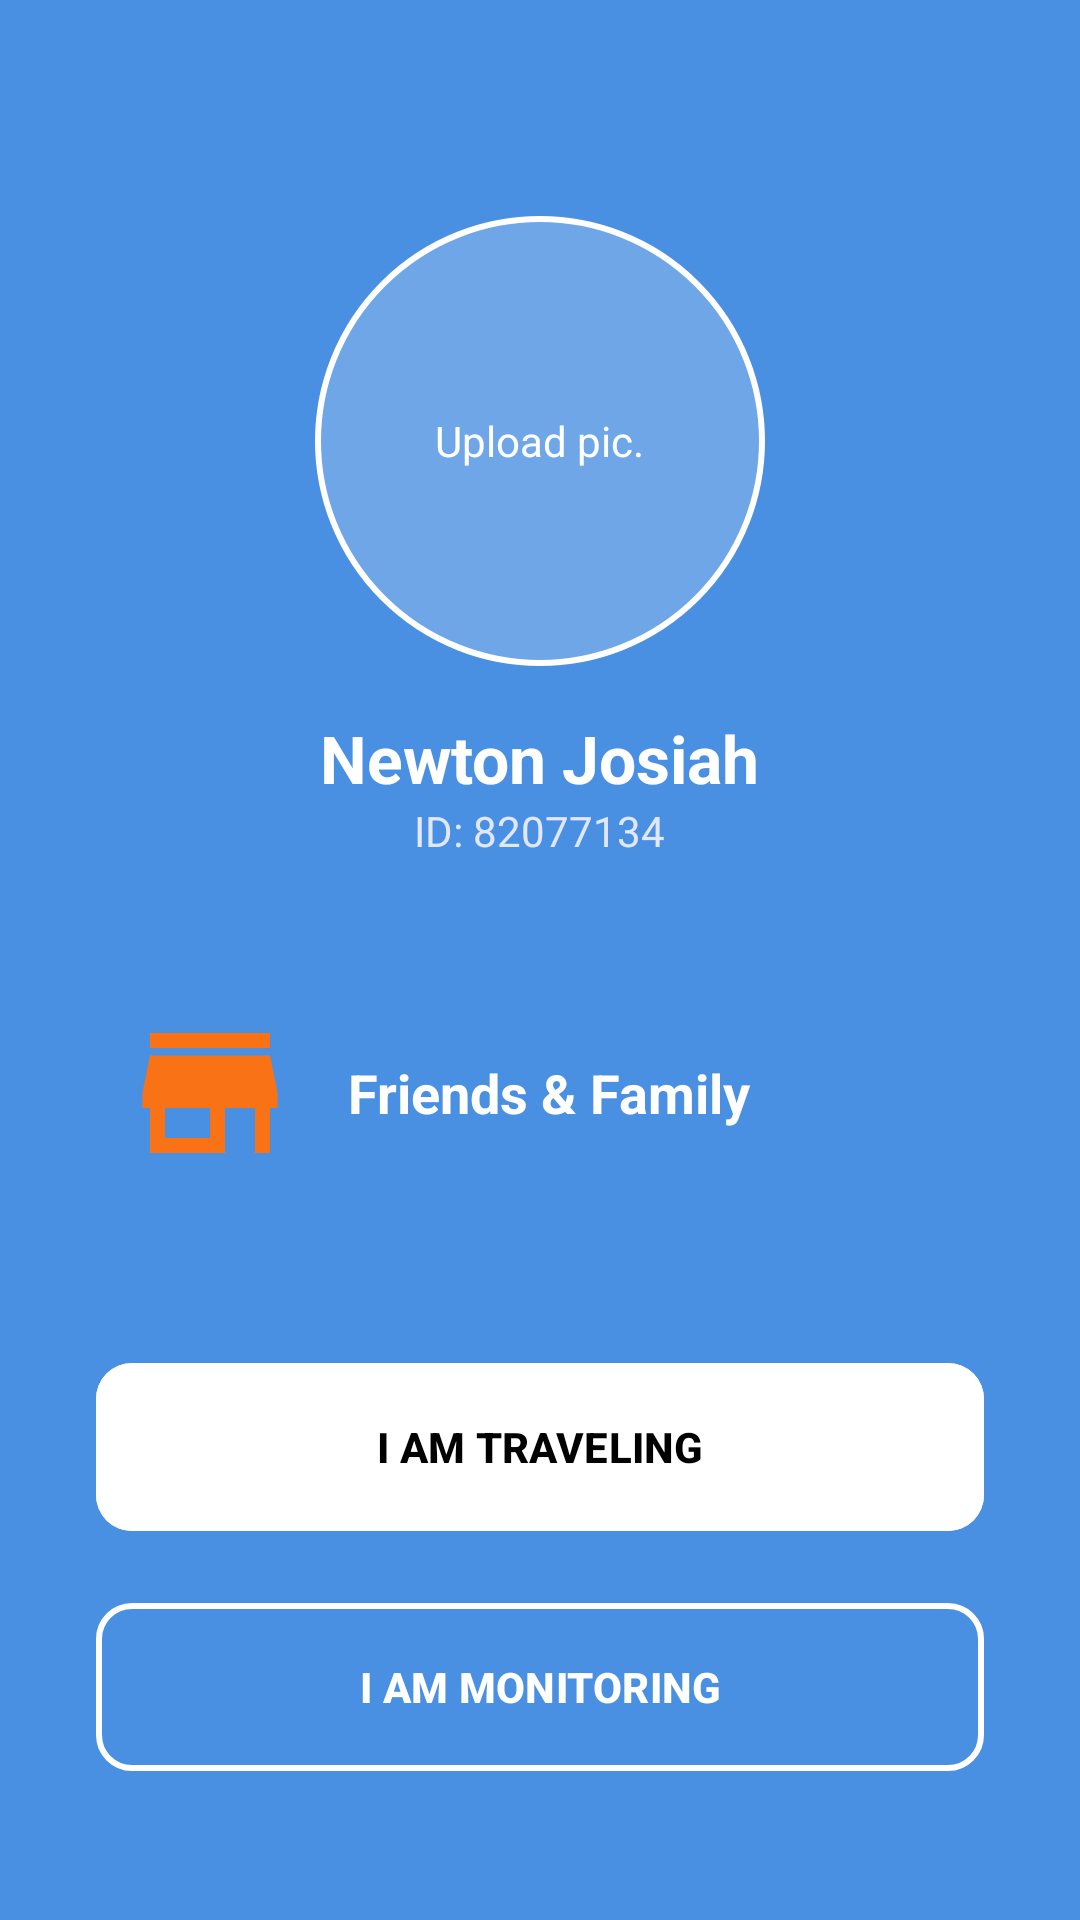

Locate icon controls on the screen. Image size 1080x1920, boxes as (x1, y1, x2, y2).
store: (142, 1033, 278, 1153)
